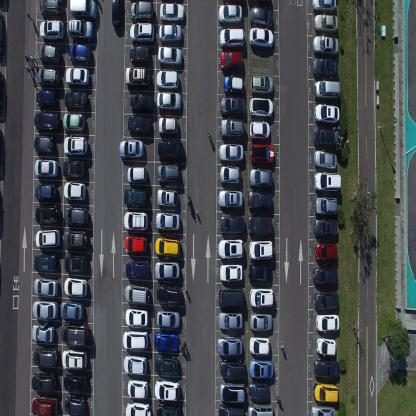car: (61, 322, 89, 347), (217, 237, 245, 260), (124, 282, 150, 306), (125, 65, 151, 89), (156, 283, 183, 306), (153, 378, 180, 401), (32, 345, 59, 368), (68, 18, 95, 41), (38, 18, 65, 41), (218, 117, 245, 140), (219, 380, 246, 403), (312, 381, 339, 404), (313, 126, 340, 149), (313, 78, 340, 101), (313, 171, 342, 192), (123, 352, 147, 377), (63, 134, 88, 158), (249, 238, 274, 262), (159, 0, 185, 23), (157, 140, 184, 162), (313, 357, 340, 379), (62, 111, 86, 135), (68, 41, 92, 65), (128, 113, 152, 137), (34, 111, 59, 134), (158, 44, 183, 67), (249, 27, 274, 50), (250, 143, 275, 166), (314, 290, 339, 313), (34, 204, 60, 226), (62, 348, 88, 370), (62, 228, 88, 250), (130, 22, 156, 44), (247, 190, 273, 212), (249, 286, 275, 308), (218, 287, 244, 309), (217, 335, 243, 357), (312, 265, 338, 287), (314, 102, 340, 124), (219, 358, 246, 379), (69, 0, 97, 20), (154, 331, 179, 353), (35, 228, 60, 250), (129, 0, 154, 22), (218, 4, 243, 26), (219, 27, 244, 49), (219, 50, 244, 72), (250, 74, 275, 96), (219, 141, 244, 163), (219, 310, 244, 332), (313, 56, 338, 78), (313, 34, 338, 56), (123, 210, 149, 231), (154, 236, 180, 257), (122, 330, 148, 351), (31, 371, 57, 392), (32, 299, 58, 320), (313, 217, 339, 238), (38, 42, 61, 65), (124, 186, 148, 208), (156, 162, 180, 184), (154, 354, 178, 376), (60, 300, 84, 322), (66, 66, 90, 88), (250, 6, 274, 28), (250, 96, 274, 118), (219, 188, 243, 210), (314, 241, 338, 263), (155, 209, 180, 230), (64, 205, 89, 226), (156, 308, 181, 329), (63, 276, 88, 297), (33, 276, 58, 297), (220, 96, 245, 117), (249, 167, 274, 188), (248, 215, 273, 236), (219, 262, 244, 283), (249, 358, 274, 379), (118, 139, 144, 159), (154, 260, 180, 280), (31, 395, 57, 415), (34, 158, 60, 178), (36, 67, 62, 87), (219, 215, 245, 235), (126, 377, 148, 400), (64, 89, 87, 111), (156, 68, 179, 90), (222, 74, 245, 96), (314, 148, 337, 170), (124, 234, 148, 255), (63, 372, 87, 393), (130, 92, 154, 113), (314, 195, 338, 216), (124, 307, 149, 327), (157, 91, 182, 111), (313, 13, 338, 33), (38, 0, 64, 19), (64, 394, 86, 416), (33, 133, 55, 155), (36, 87, 58, 109), (157, 115, 179, 137), (219, 164, 241, 186), (248, 334, 270, 356), (159, 23, 182, 44), (125, 259, 149, 279), (31, 324, 55, 344), (248, 262, 272, 282), (315, 313, 340, 332), (130, 44, 151, 66), (34, 183, 57, 203), (64, 253, 87, 273), (250, 312, 273, 332), (34, 253, 58, 272), (156, 186, 178, 206), (64, 181, 86, 201), (63, 159, 86, 178), (127, 164, 147, 185), (250, 119, 270, 140), (248, 381, 269, 401), (125, 400, 151, 415), (316, 337, 336, 356), (247, 401, 274, 415), (111, 0, 122, 29), (156, 403, 182, 415), (311, 0, 337, 12), (310, 404, 336, 415), (218, 405, 244, 415), (0, 68, 4, 113), (0, 10, 4, 54)
